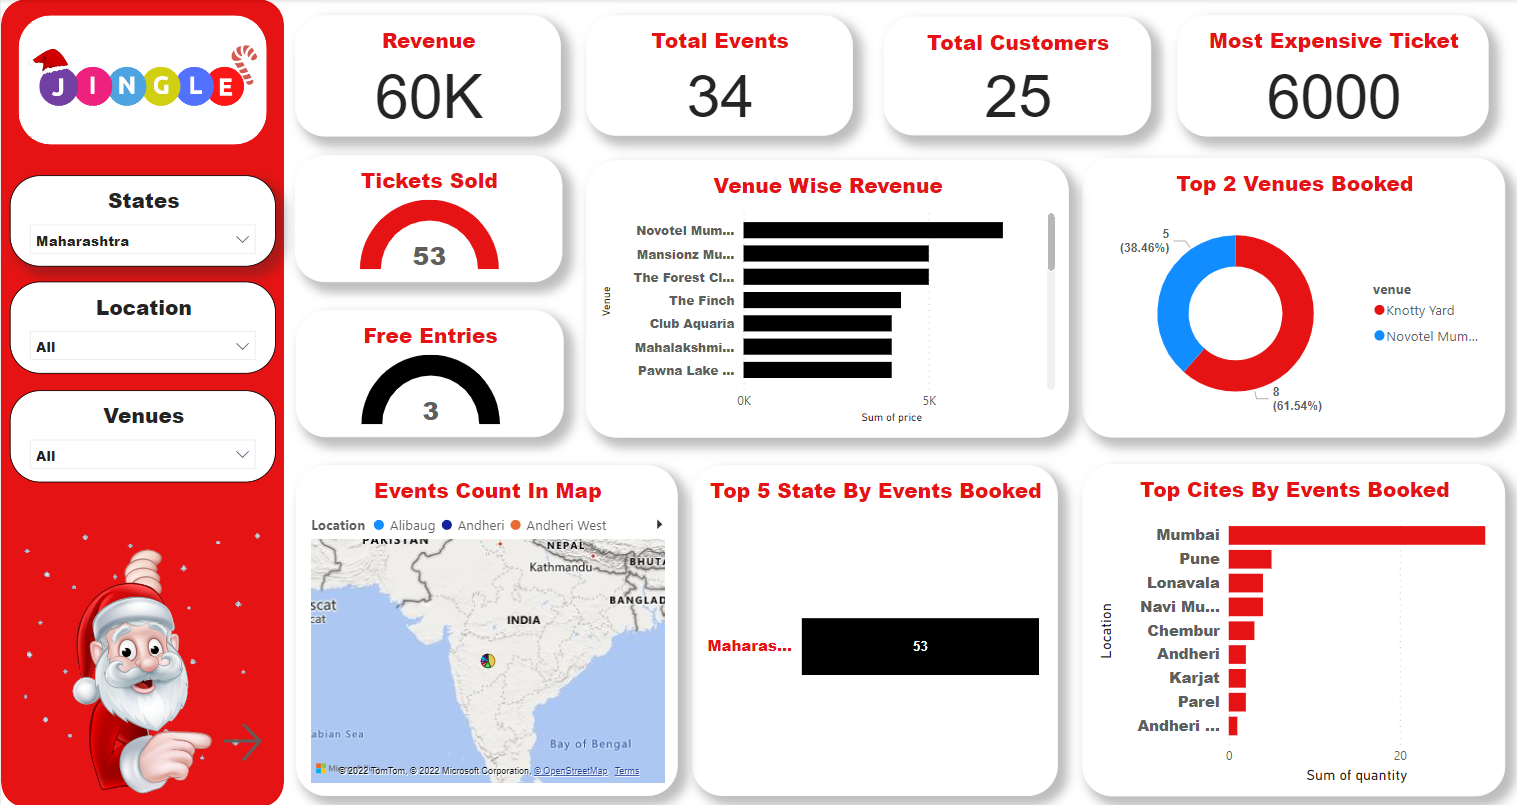

This screenshot's page, from the dashboard's own definition file:
{"tool":"powerbi","page":{"name":"Overview","canvas":[1500,800],"ordinal":0},"visuals":[{"type":"shape","box":[0,0,280,800],"z":0},{"type":"shape","box":[17.9,16.5,245.8,127.7],"z":1000},{"type":"image","box":[17.9,16.5,245.8,119.5],"z":2000},{"type":"slicer","title":"States","fields":{"Values":["christmas christmas_describe.State"]},"box":[8.2,174.5,263.2,90],"z":3000},{"type":"slicer","title":"Location","fields":{"Values":["christmas christmas_describe.Location"]},"box":[8.2,279.5,263.2,91.4],"z":4000},{"type":"card","title":"Revenue","fields":{"Values":["Sum(christmas booking_details.price)"]},"box":[291.1,16.7,263.3,120],"z":5000},{"type":"card","title":"Total Events","fields":{"Values":["CountNonNull(christmas christmas_describe.Name_of_event)"]},"box":[578.2,16.5,263.7,119.5],"z":6000},{"type":"card","title":"Most Expensive Ticket","fields":{"Values":["Max(christmas christmas_describe.Cost_of_Ticket)"]},"box":[1163.2,16.4,308.2,120],"z":7000},{"type":"funnel","title":"Top 5 State By Events Booked","fields":{"Category":["christmas christmas_describe.State"],"Y":["Sum(christmas booking_details.quantity)"]},"box":[683.2,460.9,361.4,327.3],"z":8000},{"type":"map","title":"Events Count In Map","fields":{"Category":["christmas christmas_describe.State"],"Size":["CountNonNull(christmas christmas_describe.Cost_of_Ticket)"],"Series":["christmas christmas_describe.Location"]},"box":[291.8,460.9,377.7,327.3],"z":9000},{"type":"clusteredBarChart","title":"Top Cites By Events Booked","fields":{"Category":["christmas christmas_describe.Location"],"Y":["Sum(christmas booking_details.quantity)"]},"box":[1069.1,459.5,418.6,328.6],"z":10000},{"type":"gauge","title":"Tickets Sold","fields":{"Y":["Sum(christmas booking_details.quantity)"],"MaxValue":["Sum(christmas booking_details.quantity)"]},"box":[291.1,154.4,264.4,125.6],"z":11000},{"type":"card","title":"Total Customers","fields":{"Values":["Count(christmas booking_details.email)"]},"box":[872.7,17.7,264.5,117.3],"z":12000},{"type":"donutChart","title":"Top 2 Venues Booked","fields":{"Category":["christmas booking_details.venue"],"Y":["Sum(christmas booking_details.quantity)"]},"box":[1069.1,156.8,418.6,276.8],"z":13000},{"type":"gauge","title":"Free Entries","fields":{"Y":["CountNonNull(christmas booking_details.discount)"],"MaxValue":["CountNonNull(christmas booking_details.discount)"]},"box":[291.8,308.2,264.5,125.5],"z":14000},{"type":"clusteredBarChart","title":"Venue Wise Revenue  ","fields":{"Category":["christmas christmas_describe.Venue"],"Y":["Sum(christmas booking_details.price)"]},"box":[578.2,159.5,477.3,274.1],"z":15000},{"type":"image","box":[0,488.2,271.4,300],"z":15250},{"type":"image","box":[0,530.5,279.5,270],"z":15500},{"type":"actionButton","box":[214.1,706.4,49.1,58.6],"z":16000},{"type":"slicer","title":"Venues","fields":{"Values":["christmas christmas_describe.Venue"]},"box":[8.2,387.3,263.2,91.4],"z":18000}]}

Visuals, with their boxes in screenshot pixels (x1, y1, x2, y2), scaled from the page's 1500x800 canvas onto the 1517x805 screenshot:
shape: (left=0, top=0, right=283, bottom=804)
shape: (left=18, top=17, right=267, bottom=145)
image: (left=18, top=17, right=267, bottom=137)
"States" slicer: (left=8, top=176, right=274, bottom=266)
"Location" slicer: (left=8, top=281, right=274, bottom=373)
"Revenue" card: (left=294, top=17, right=561, bottom=138)
"Total Events" card: (left=585, top=17, right=851, bottom=137)
"Most Expensive Ticket" card: (left=1176, top=17, right=1488, bottom=137)
"Top 5 State By Events Booked" funnel: (left=691, top=464, right=1056, bottom=793)
"Events Count In Map" map: (left=295, top=464, right=677, bottom=793)
"Top Cites By Events Booked" clusteredBarChart: (left=1081, top=462, right=1505, bottom=793)
"Tickets Sold" gauge: (left=294, top=155, right=562, bottom=282)
"Total Customers" card: (left=883, top=18, right=1150, bottom=136)
"Top 2 Venues Booked" donutChart: (left=1081, top=158, right=1505, bottom=436)
"Free Entries" gauge: (left=295, top=310, right=563, bottom=436)
"Venue Wise Revenue  " clusteredBarChart: (left=585, top=160, right=1067, bottom=436)
image: (left=0, top=491, right=274, bottom=793)
image: (left=0, top=534, right=283, bottom=804)
actionButton: (left=217, top=711, right=266, bottom=770)
"Venues" slicer: (left=8, top=390, right=274, bottom=482)
